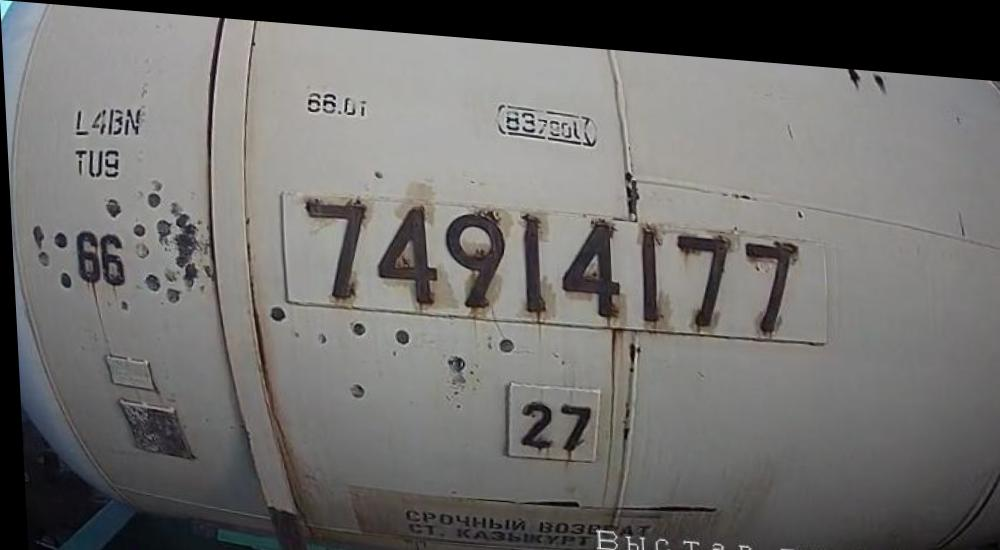Wagon-number: (292, 193, 803, 332)
